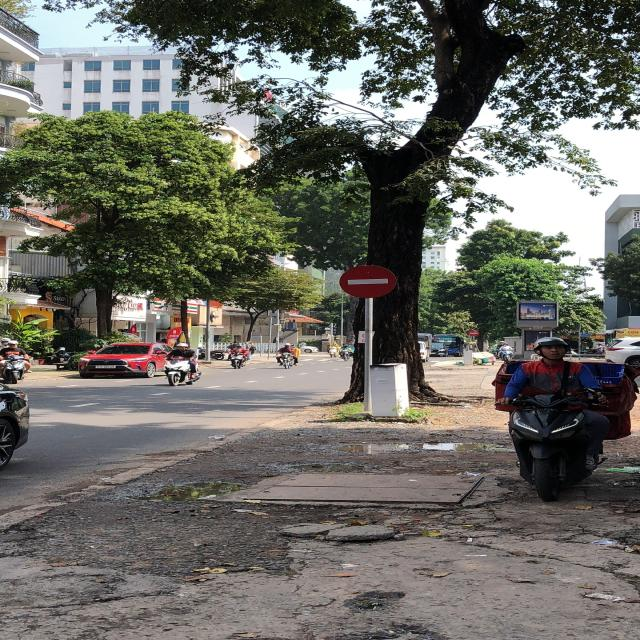Bien bao cam di nguoc chieu: (339, 260, 405, 300)
